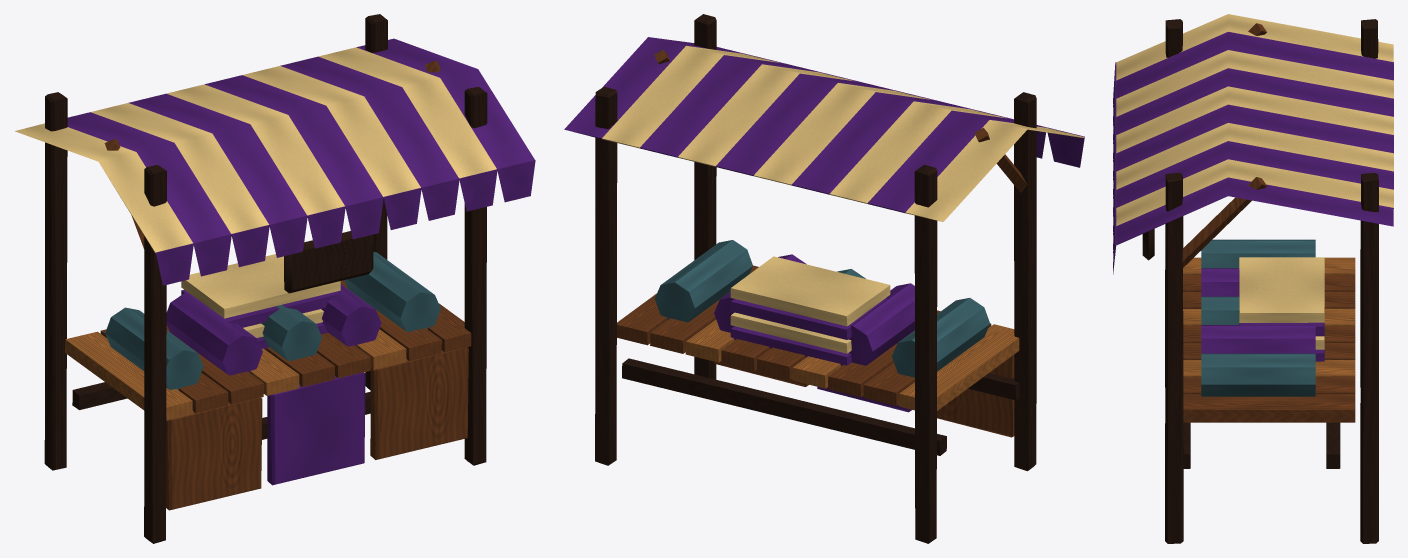
The model's file is Banca_de_tecidos_LOD1.fbx.
3 renders of one model, left to right at view 1: azimuth 30°, elevation 25°; view 2: azimuth 150°, elevation 25°; view 3: azimuth 270°, elevation 25°, orthographic.
Parts seen in each view (by area): view 1: Banca_de_tecidos_LOD1; view 2: Banca_de_tecidos_LOD1; view 3: Banca_de_tecidos_LOD1.
Part boxes in pixels (bbox=[...]): Banca_de_tecidos_LOD1: bbox=[15, 14, 535, 543]; Banca_de_tecidos_LOD1: bbox=[564, 14, 1084, 543]; Banca_de_tecidos_LOD1: bbox=[1113, 14, 1393, 543].
Bounding box in the file's own units: 320 × 300 × 208.
1 material, 1 textured.
